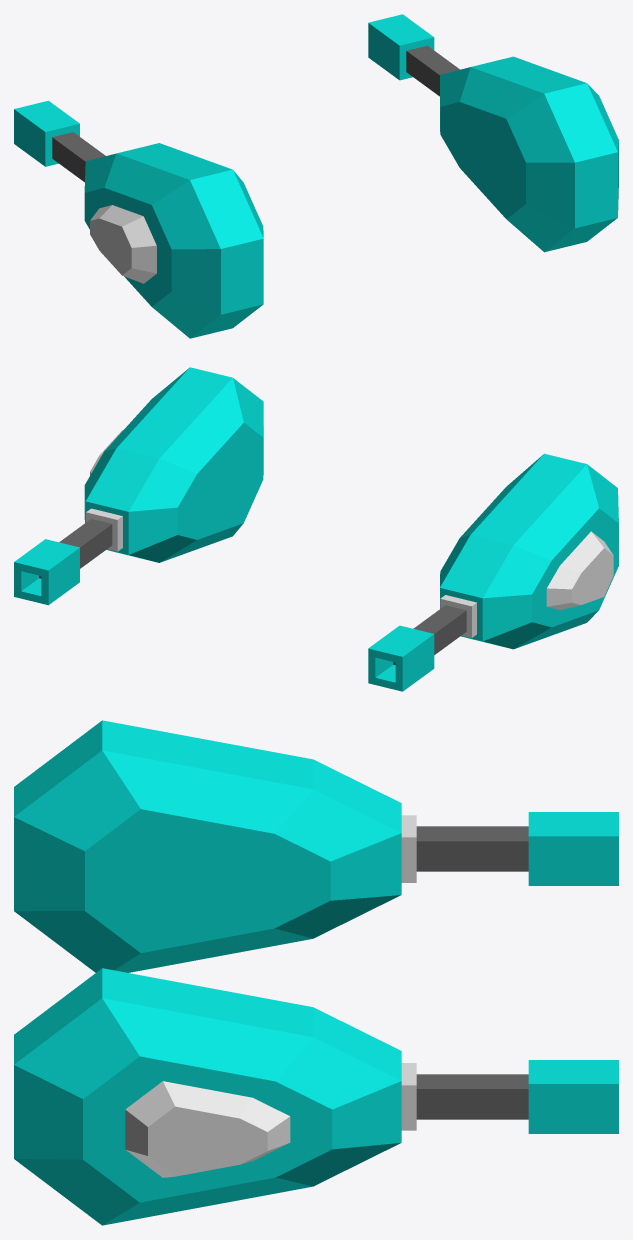
File: TurretArms.fbx
The picture shows the model from 3 angles, top to bottom: view 1: azimuth 30°, elevation 25°; view 2: azimuth 150°, elevation 25°; view 3: azimuth 270°, elevation 25°; orthographic projection. The views are drawn at different scales.
Visible parts, largest first — view 1: Cylinder.005, Cylinder.002, Cylinder.003, Cylinder.004; view 2: Cylinder.002, Cylinder.005, Cylinder.004, Cylinder.003; view 3: Cylinder.002, Cylinder.005, Cylinder.003, Cylinder.004.
Boxes of the visible parts, bbox=[...] form: Cylinder.005: bbox=[84, 143, 263, 338]; Cylinder.002: bbox=[440, 56, 618, 252]; Cylinder.003: bbox=[368, 14, 459, 96]; Cylinder.004: bbox=[14, 100, 105, 182]; Cylinder.002: bbox=[84, 367, 263, 562]; Cylinder.005: bbox=[440, 453, 618, 649]; Cylinder.004: bbox=[368, 605, 466, 691]; Cylinder.003: bbox=[14, 519, 112, 605]; Cylinder.002: bbox=[14, 968, 416, 1225]; Cylinder.005: bbox=[14, 720, 416, 972]; Cylinder.003: bbox=[416, 1060, 618, 1133]; Cylinder.004: bbox=[416, 812, 618, 885].
Bounding box in the file's own units: 110 × 34.75 × 83.76.
